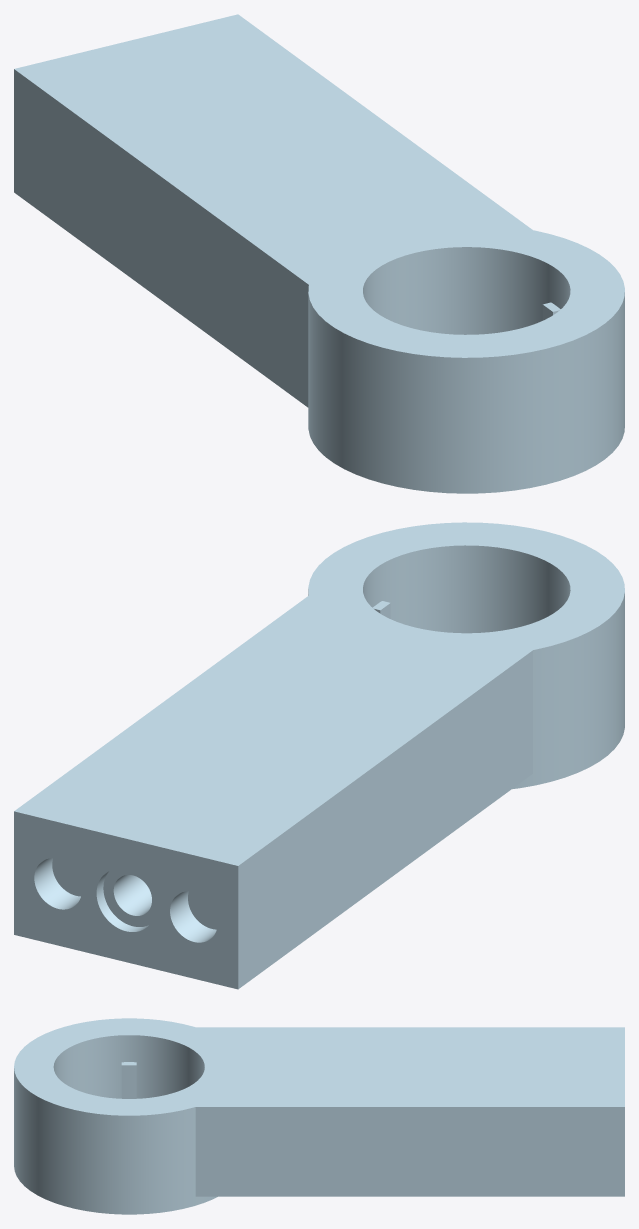
The model's file is TrianglePostThin.gltf.
3 views of the same model, one above another, from view 1: azimuth 30°, elevation 25°; view 2: azimuth 150°, elevation 25°; view 3: azimuth 270°, elevation 25° (orthographic). The views are drawn at different scales.
Parts seen in each view (by area): view 1: Part 1; view 2: Part 1; view 3: Part 1.
Part boxes in pixels (<box>): Part 1: <box>14,14,624,493</box>; Part 1: <box>14,522,624,989</box>; Part 1: <box>14,1018,624,1214</box>.
Bounding box in the file's own units: 0.0464 × 0.022 × 0.1233.
